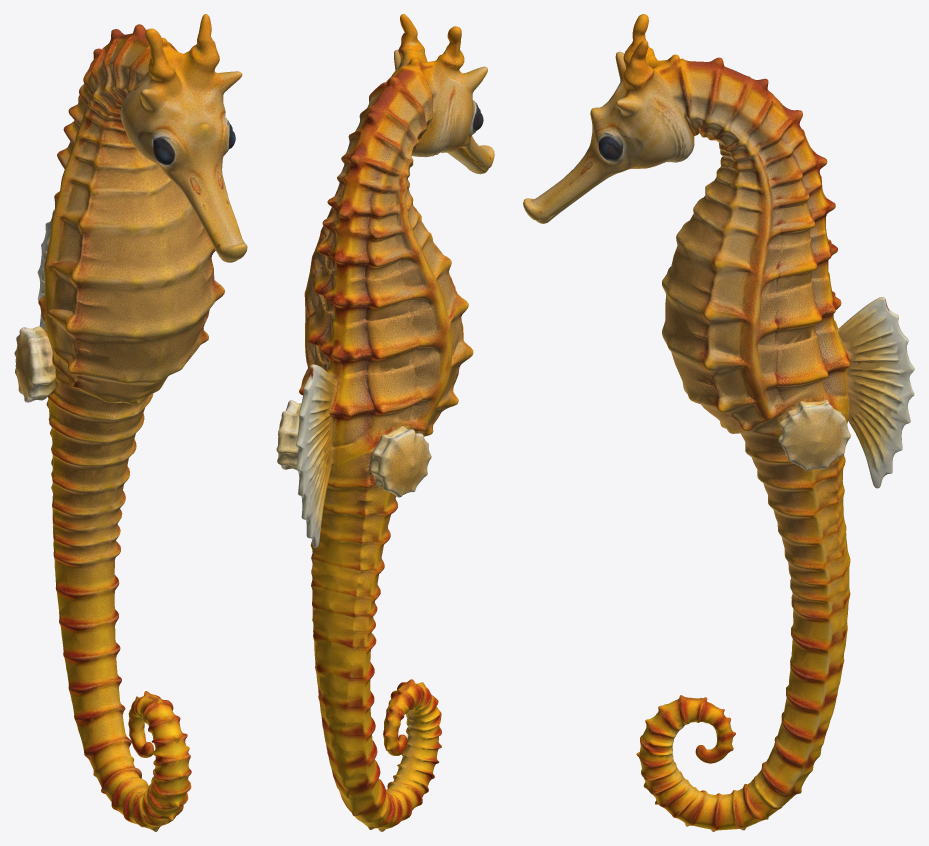
File: Seahorse.glb
The picture shows the model from 3 angles, left to right: view 1: azimuth 30°, elevation 25°; view 2: azimuth 150°, elevation 25°; view 3: azimuth 270°, elevation 25°; orthographic projection. The views are drawn at different scales.
Size of the model in its own units: 0.3786 by 1.9 by 0.8406.
Materials: 1 (1 with a texture image).
